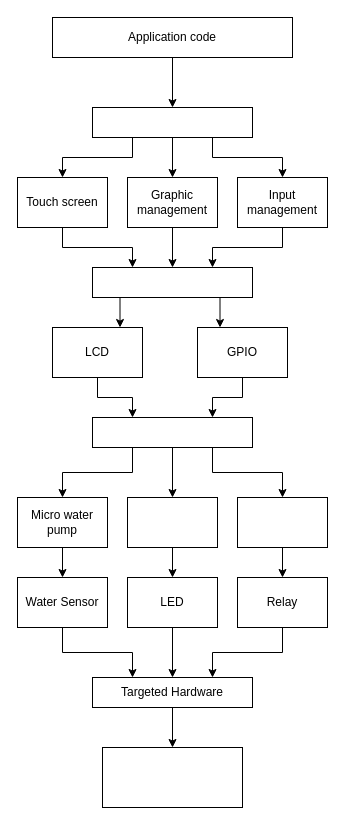
This 345x825 diagram has some shape labels left out. The centre of each missing label's shape, as x and y in pixels:
"Button" goes at [282,522].
"Buzzer" goes at [172,522].
"Device Drivers" goes at [172,282].
"Middleware" goes at [172,122].
"Peripheral Devices" goes at [172,432].
"STM32F746NG Board" goes at [172,777].
